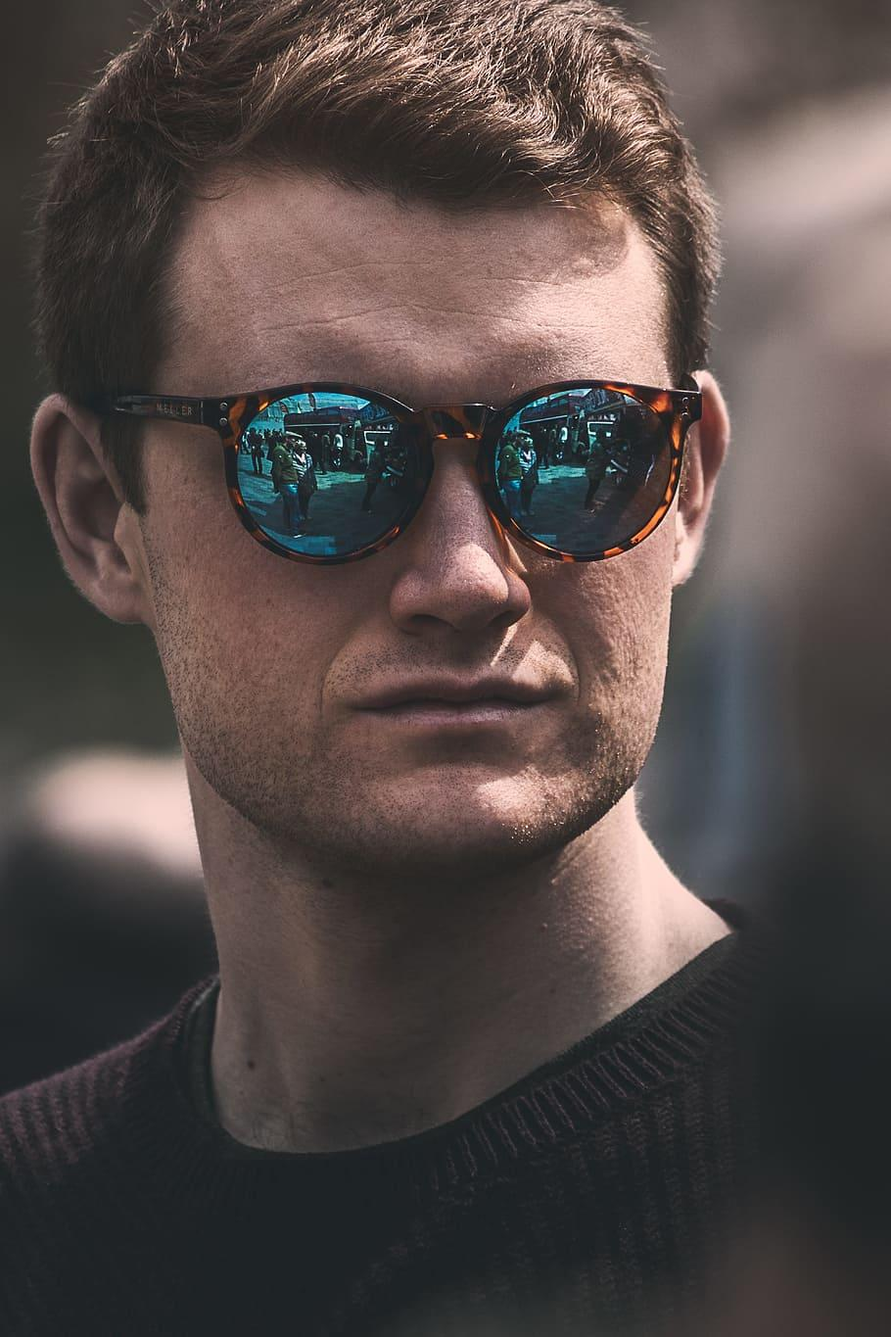sunglasses: (203, 362, 727, 578)
